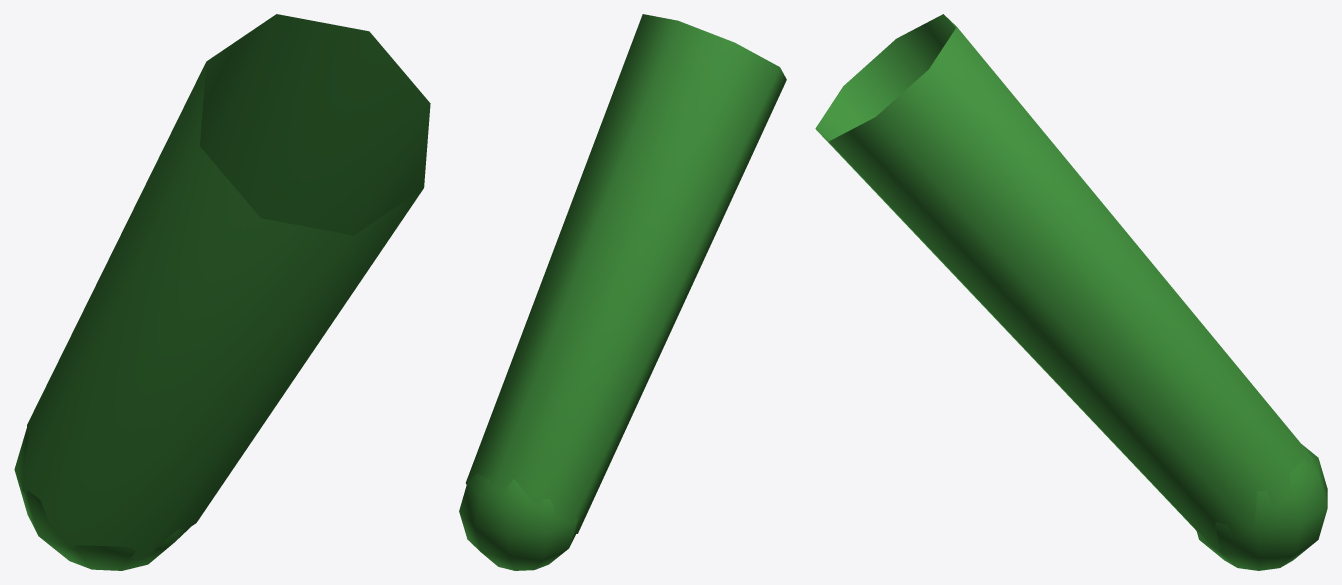
The model's file is Kameleon_Limb1L.fbx.
3 views of the same model, side by side, from view 1: azimuth 30°, elevation 25°; view 2: azimuth 150°, elevation 25°; view 3: azimuth 270°, elevation 25° (orthographic). The views are drawn at different scales.
Visible parts, largest first — view 1: Kameleon_Limb1L; view 2: Kameleon_Limb1L; view 3: Kameleon_Limb1L.
Boxes of the visible parts, x1,y1,x2,y2 form: Kameleon_Limb1L: (14, 14, 430, 570); Kameleon_Limb1L: (459, 14, 786, 570); Kameleon_Limb1L: (815, 14, 1327, 570).
Size of the model in its own units: 0.1994 by 0.558 by 0.495.
